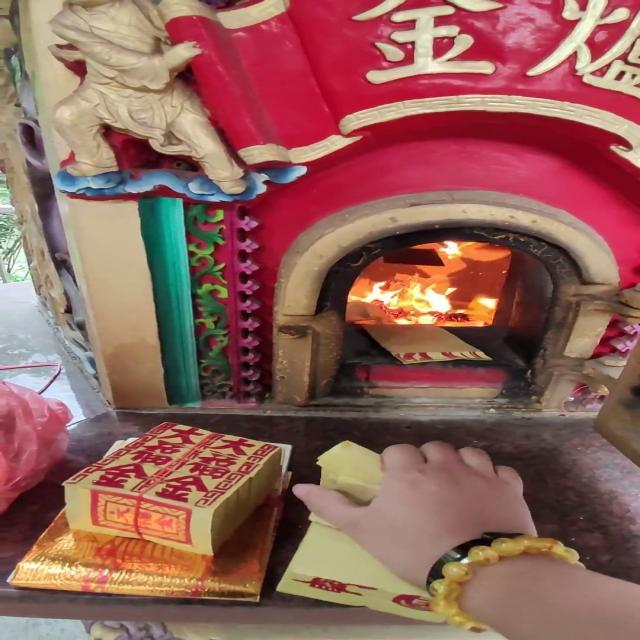Fire: (352, 241, 504, 325)
